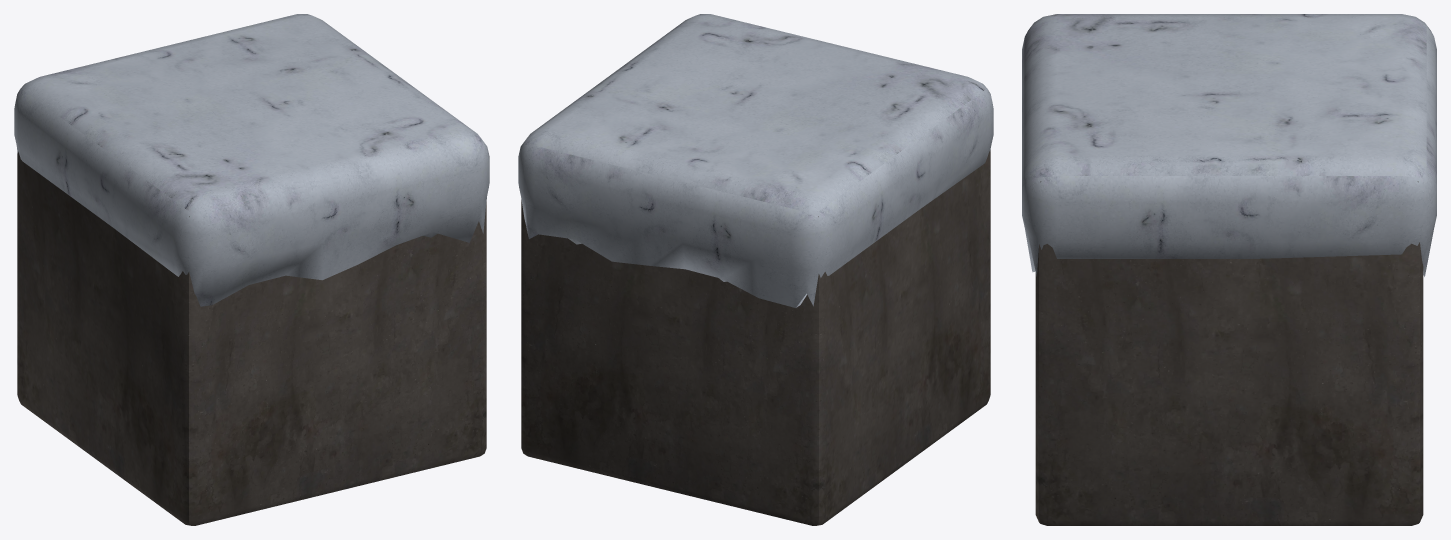
Rendered from block_ground_top_snow.glb.
The picture shows the model from 3 angles, left to right: view 1: azimuth 30°, elevation 25°; view 2: azimuth 150°, elevation 25°; view 3: azimuth 270°, elevation 25°; orthographic projection. The views are drawn at different scales.
Parts seen in each view (by area): view 1: ground.002, snow; view 2: ground.002, snow; view 3: ground.002, snow.
Part boxes in pixels (box(x1,y1,x2,y2)): ground.002: box(17, 151, 486, 525); snow: box(14, 14, 489, 306); ground.002: box(521, 150, 990, 525); snow: box(518, 14, 993, 307); ground.002: box(1035, 181, 1423, 525); snow: box(1022, 14, 1436, 276).
Size of the model in its own units: 1.03 by 1.03 by 1.07.
Materials: 2 (2 with a texture image).
